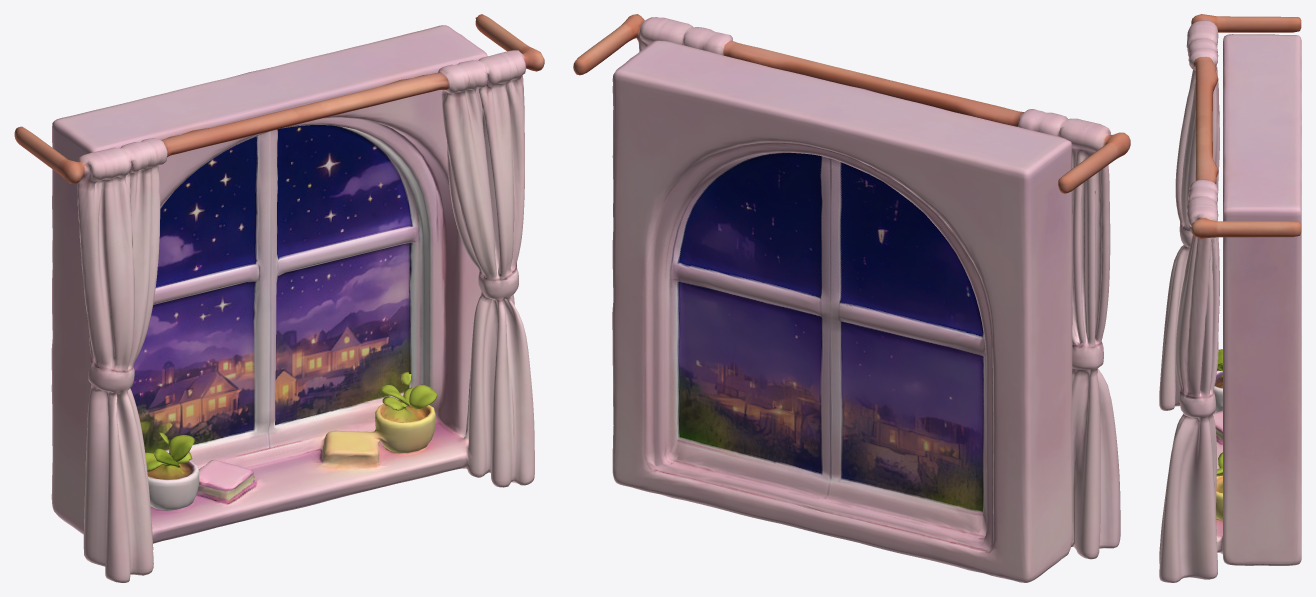
The model's file is window.glb.
3 views of the same model, side by side, from view 1: azimuth 30°, elevation 25°; view 2: azimuth 150°, elevation 25°; view 3: azimuth 270°, elevation 25° (orthographic). The views are drawn at different scales.
Parts seen in each view (by area): view 1: model; view 2: model; view 3: model.
Boxes of the visible parts, box(x1,y1,x2,y2) form: model: box(14, 14, 544, 582); model: box(573, 14, 1130, 582); model: box(1159, 14, 1301, 582).
Bounding box in the file's own units: 1.89 × 1.57 × 0.5396.
Materials: 1 (1 with a texture image).
